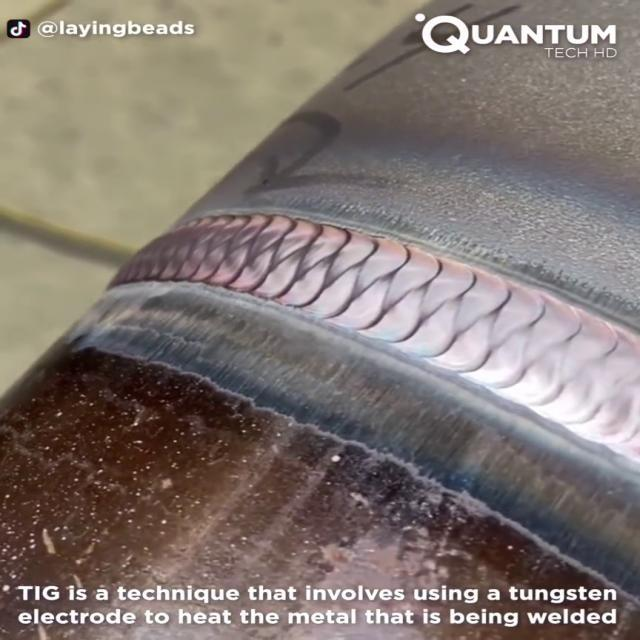Good Welding: (116, 214, 638, 460)
